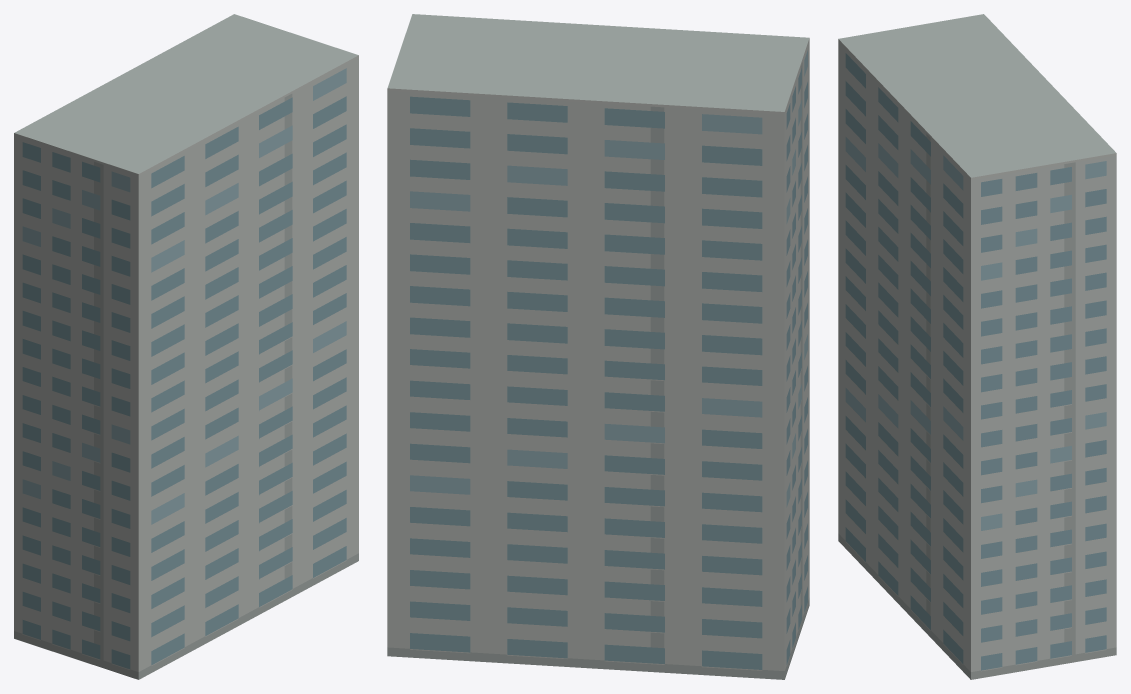
Rendered from residential-90905899-24ae-43e4-8d8b-5c9548be4557.glb.
3 views of the same model, side by side, from view 1: azimuth 30°, elevation 25°; view 2: azimuth 150°, elevation 25°; view 3: azimuth 270°, elevation 25° (orthographic). The views are drawn at different scales.
Visible parts, largest first — view 1: residential-90905899-24ae-43e4-8d8b-5c9548be4557.tmp; view 2: residential-90905899-24ae-43e4-8d8b-5c9548be4557.tmp; view 3: residential-90905899-24ae-43e4-8d8b-5c9548be4557.tmp.
Part boxes in pixels (box(x1,y1,x2,y2)): residential-90905899-24ae-43e4-8d8b-5c9548be4557.tmp: box(14, 14, 358, 679); residential-90905899-24ae-43e4-8d8b-5c9548be4557.tmp: box(387, 14, 809, 679); residential-90905899-24ae-43e4-8d8b-5c9548be4557.tmp: box(838, 14, 1116, 679).
Bounding box in the file's own units: 38.5 × 55 × 27.64.
